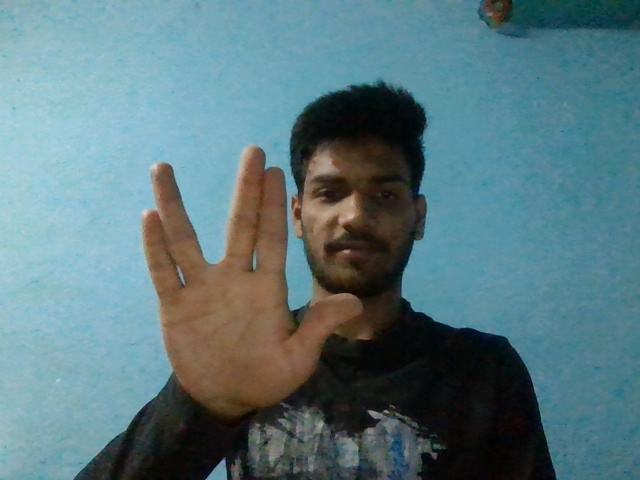Live Long: (140, 144, 364, 408)
